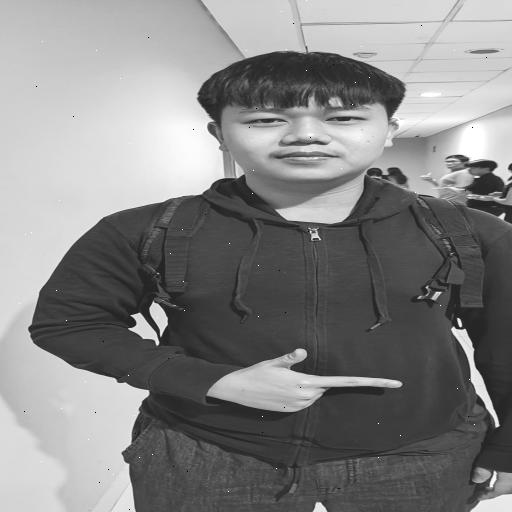next: (206, 344, 419, 421)
